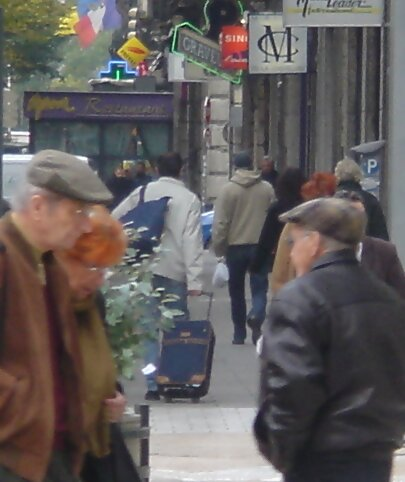person: (256, 200, 405, 476)
